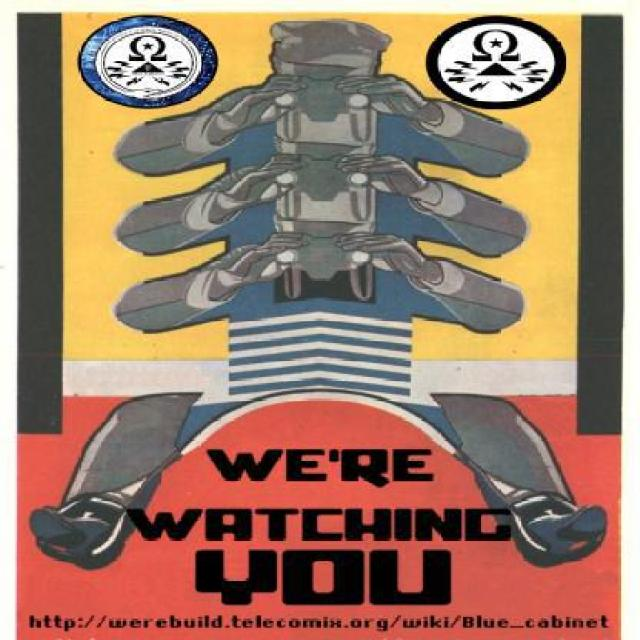Person: (27, 215, 608, 570), (114, 19, 526, 176), (114, 135, 528, 253)
